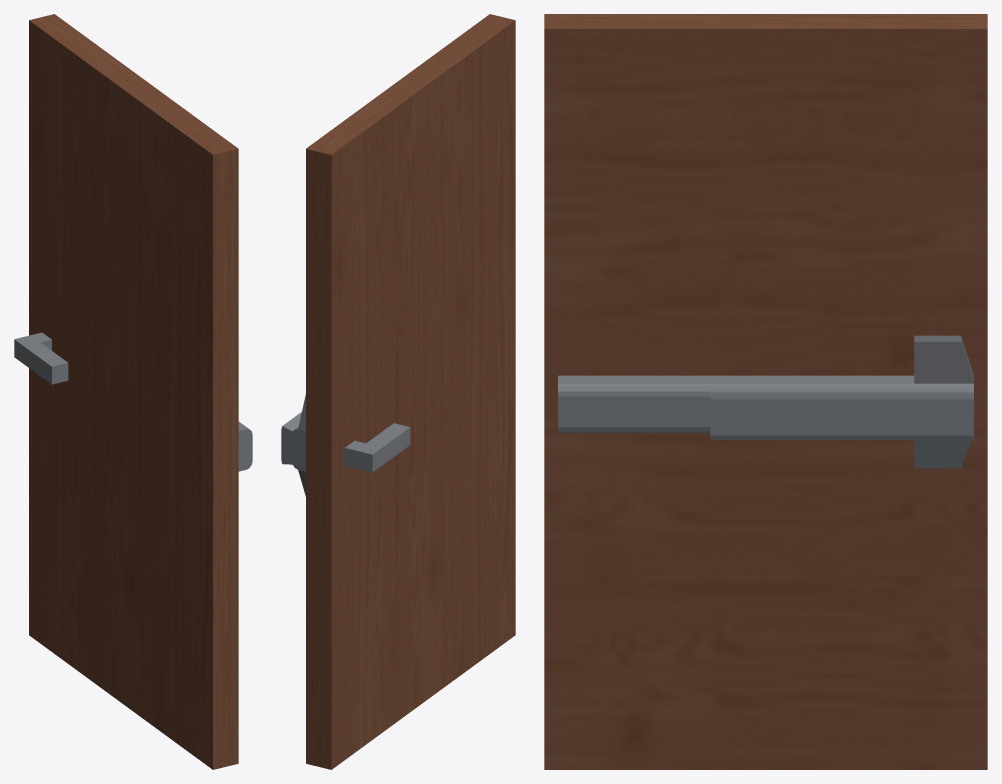
File: door .fbx
The picture shows the model from 3 angles, left to right: view 1: azimuth 30°, elevation 25°; view 2: azimuth 150°, elevation 25°; view 3: azimuth 270°, elevation 25°; orthographic projection. The views are drawn at different scales.
Visible parts, largest first — view 1: Cube, Cube.002, Cube.001; view 2: Cube, Cube.002, Cube.001; view 3: Cube, Cube.001.
Boxes of the visible parts, left/top/right/bottom form: Cube: left=29, top=14, right=238, bottom=769; Cube.002: left=14, top=332, right=68, bottom=384; Cube.001: left=238, top=421, right=252, bottom=471; Cube: left=306, top=14, right=515, bottom=769; Cube.002: left=344, top=423, right=410, bottom=472; Cube.001: left=281, top=394, right=305, bottom=496; Cube: left=544, top=14, right=987, bottom=769; Cube.001: left=558, top=335, right=973, bottom=468.
Bounding box in the file's own units: 271 × 499 × 71.23.
